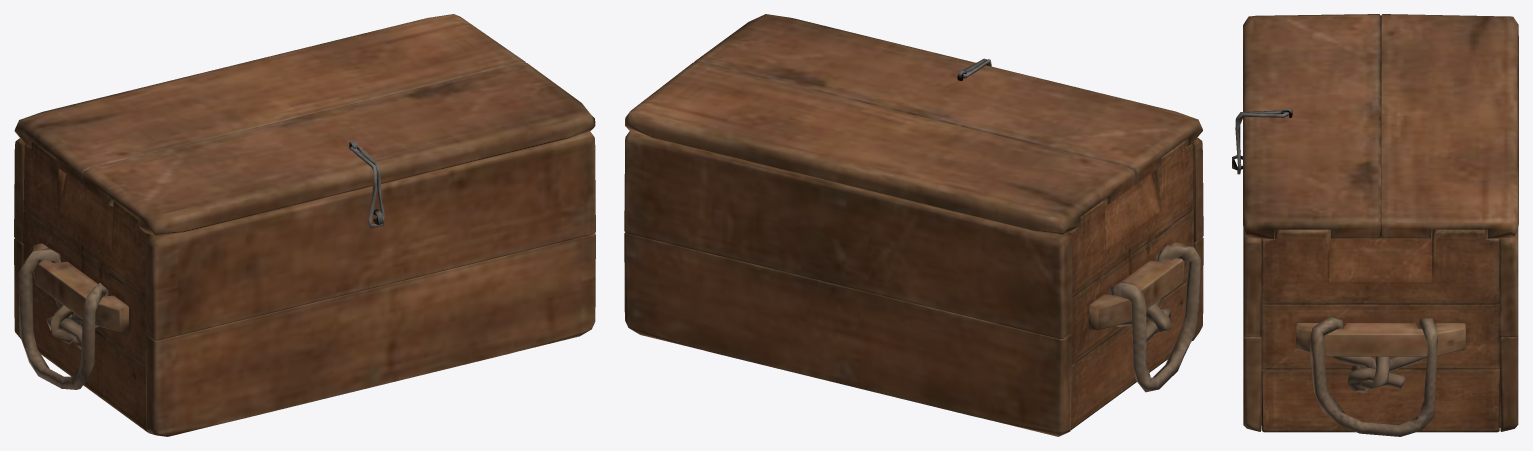
File: wooden_crate_01.slim.glb
The picture shows the model from 3 angles, left to right: view 1: azimuth 30°, elevation 25°; view 2: azimuth 150°, elevation 25°; view 3: azimuth 270°, elevation 25°; orthographic projection. The views are drawn at different scales.
Size of the model in its own units: 0.8245 by 0.3495 by 0.4077.
Materials: 1 (1 with a texture image).
